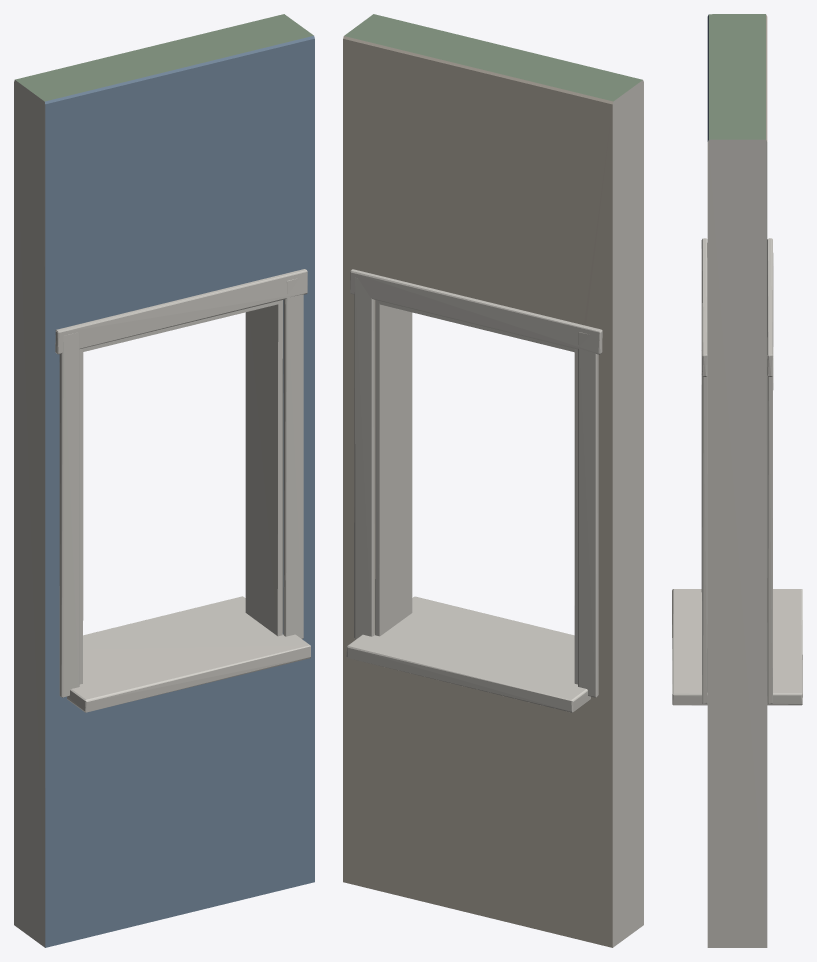
The model's file is SM_Kit_Wall_PassThrough_LOD1.glb.
3 renders of one model, left to right at view 1: azimuth 30°, elevation 25°; view 2: azimuth 150°, elevation 25°; view 3: azimuth 270°, elevation 25°, orthographic. The views are drawn at different scales.
Parts seen in each view (by area): view 1: SM_Kit_Wall_PassThrough_LOD1; view 2: SM_Kit_Wall_PassThrough_LOD1; view 3: SM_Kit_Wall_PassThrough_LOD1.
Part boxes in pixels (x1,y1,x2,y2): SM_Kit_Wall_PassThrough_LOD1: (14,14,314,947); SM_Kit_Wall_PassThrough_LOD1: (343,14,643,947); SM_Kit_Wall_PassThrough_LOD1: (672,14,802,947).
Size of the model in its own units: 1 by 3 by 0.44.
